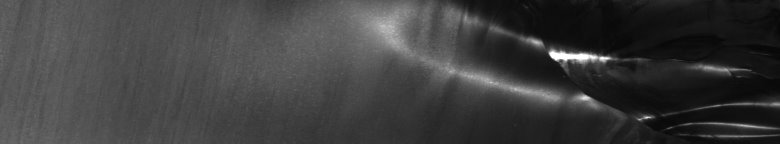ke: (449, 0, 725, 144)
